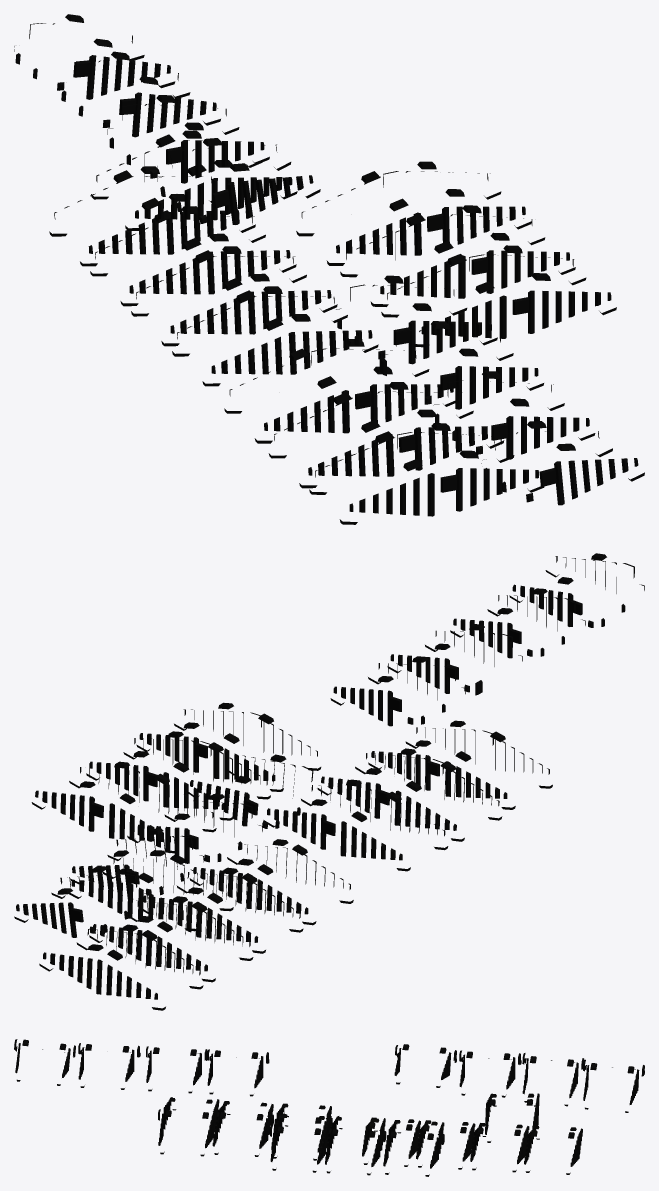
File: prop_static_tan_container_01_14.glb
3 views of the same model, one above another, from view 1: azimuth 30°, elevation 25°; view 2: azimuth 150°, elevation 25°; view 3: azimuth 270°, elevation 25° (orthographic). The views are drawn at different scales.
Parts seen in each view (by area): view 1: tan_container_01_14_LOD0; view 2: tan_container_01_14_LOD0; view 3: tan_container_01_14_LOD0.
Boxes of the visible parts, <box> form: tan_container_01_14_LOD0: <box>14,14,644,524</box>; tan_container_01_14_LOD0: <box>14,553,644,1010</box>; tan_container_01_14_LOD0: <box>14,1039,644,1176</box>.
Size of what is drawn, in the model's own units: 9.38 by 4.22 by 24.38.
Materials: 1 (1 with a texture image).
